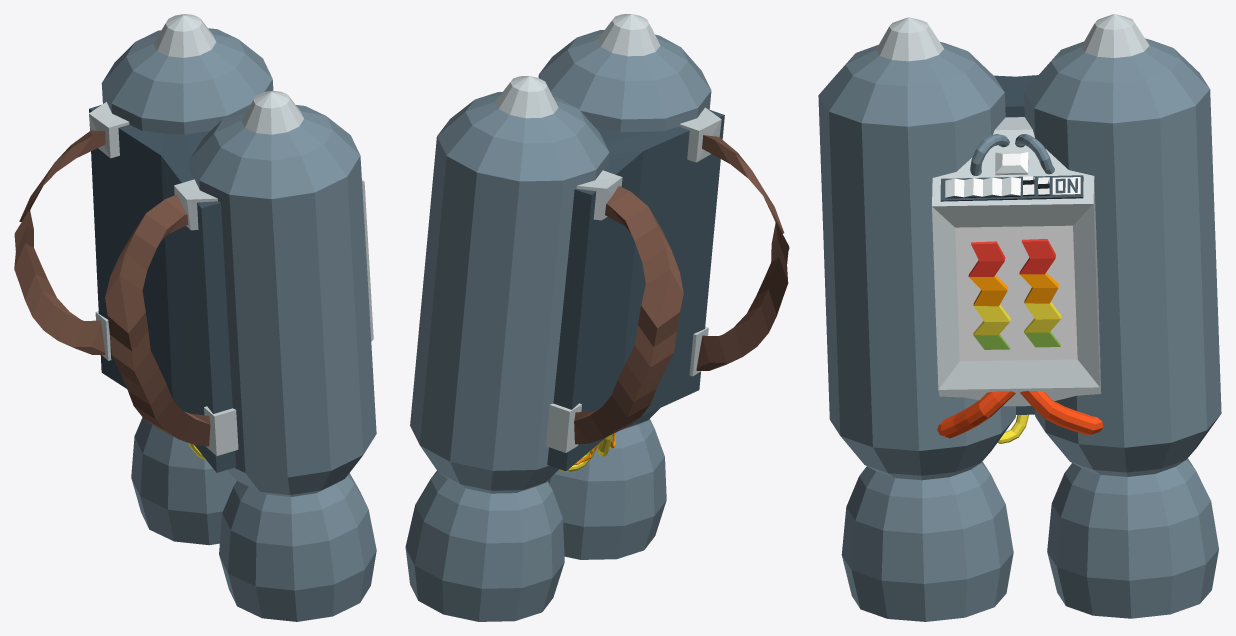
File: jetpack.glb
3 views of the same model, side by side, from view 1: azimuth 30°, elevation 25°; view 2: azimuth 150°, elevation 25°; view 3: azimuth 270°, elevation 25° (orthographic). The views are drawn at different scales.
Parts seen in each view (by area): view 1: group985480063; view 2: group985480063; view 3: group985480063.
Boxes of the visible parts, <box> form: group985480063: <box>14,14,376,621</box>; group985480063: <box>405,14,789,621</box>; group985480063: <box>818,14,1221,621</box>.
Bounding box in the file's own units: 1.97 × 3.51 × 2.25.
